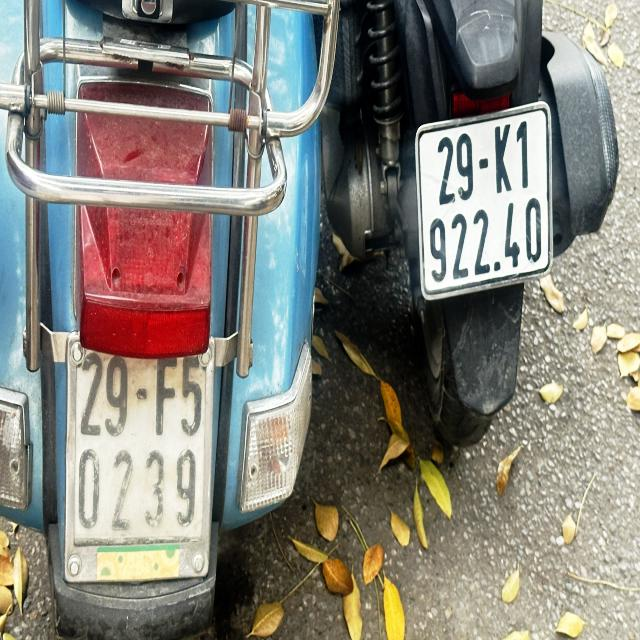license_plate: (53, 322, 231, 608), (405, 86, 573, 323)
